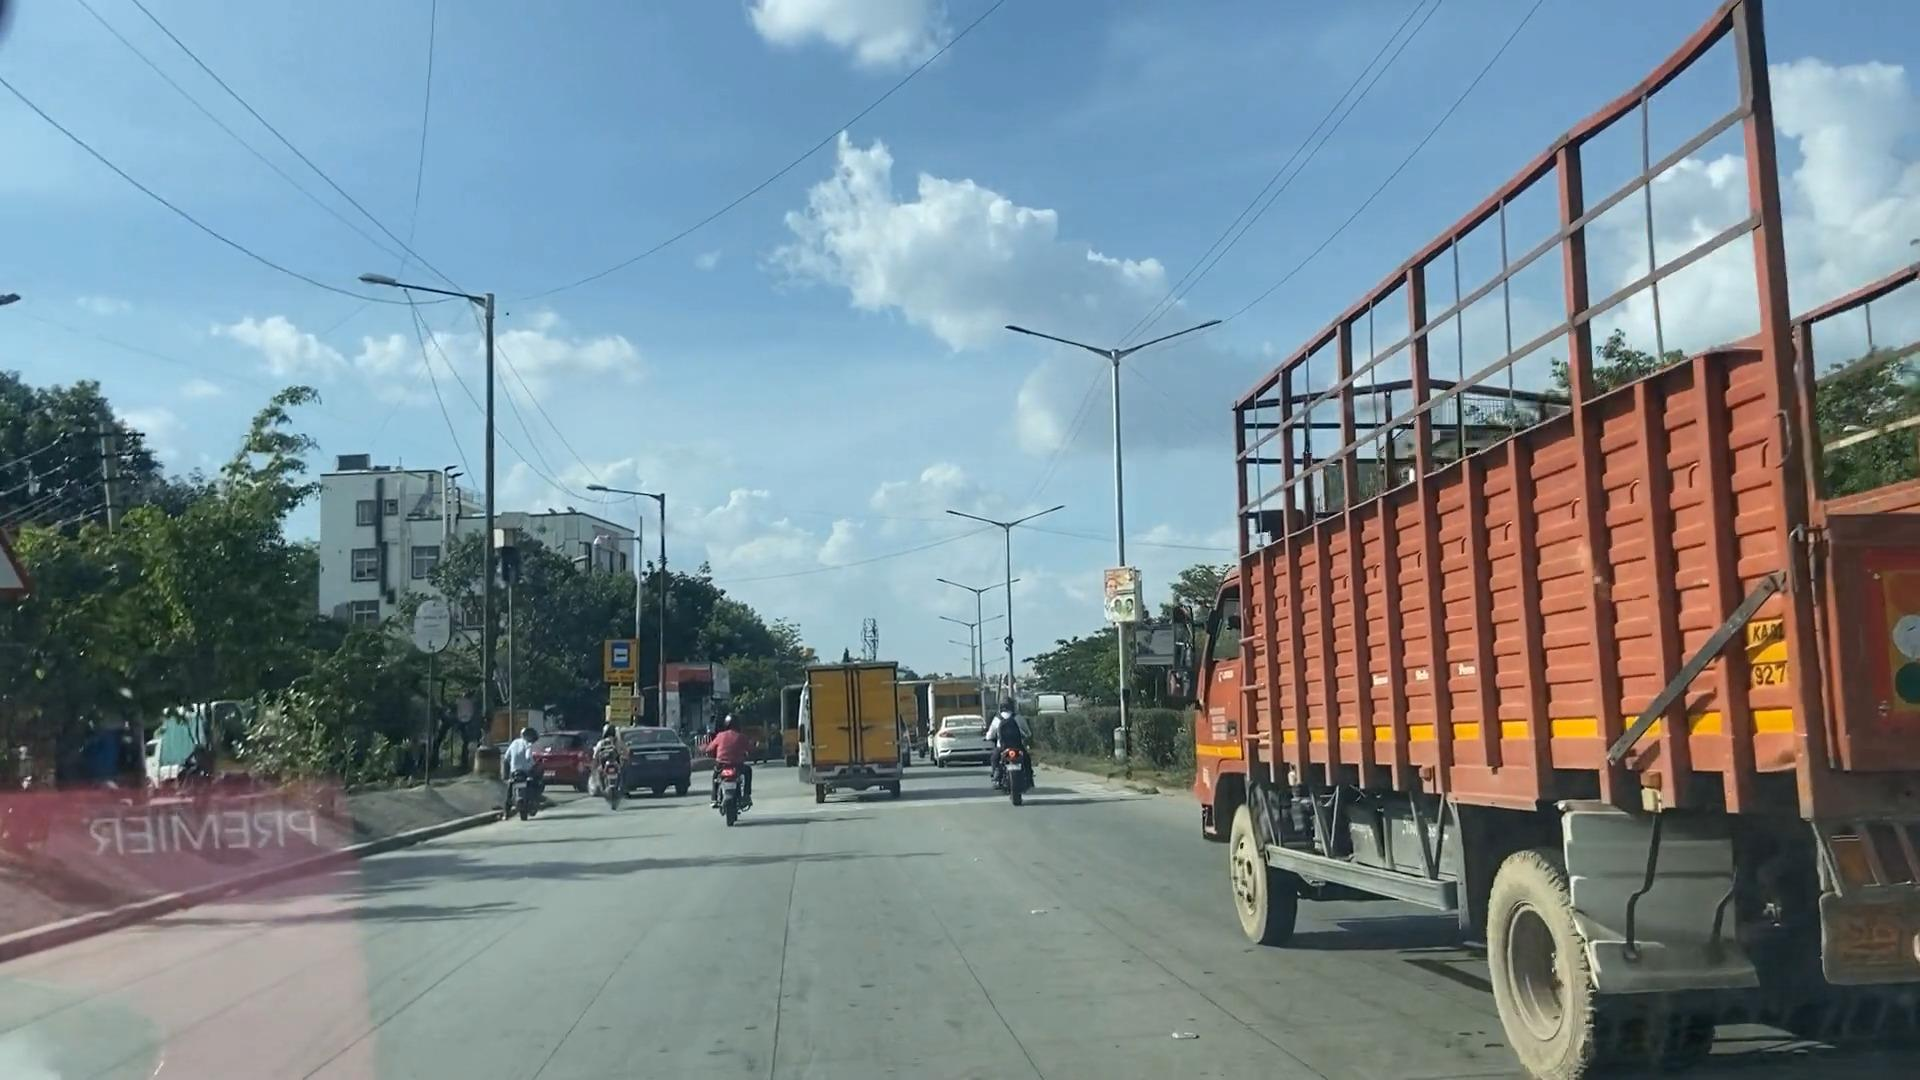HMV: (1162, 13, 1920, 1056), (782, 657, 919, 803)
LMV: (978, 692, 1046, 814), (699, 695, 753, 836)
